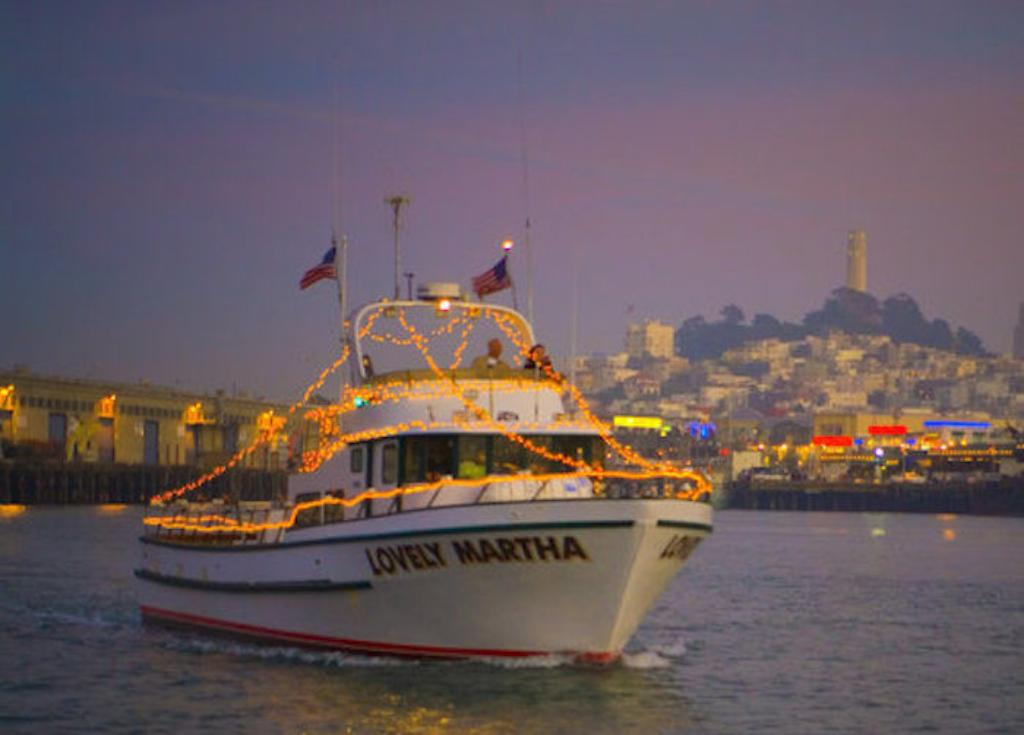PassengerShip: (109, 243, 749, 658)
